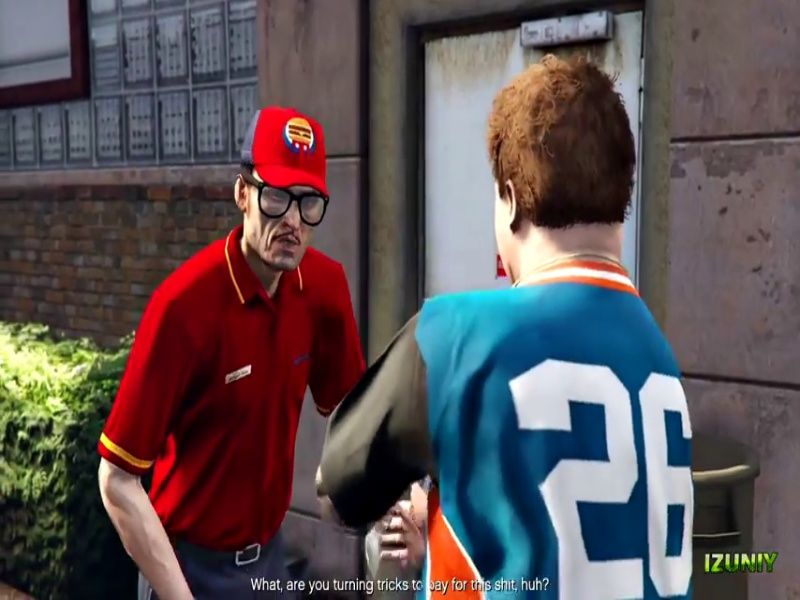human: (84, 89, 377, 598)
